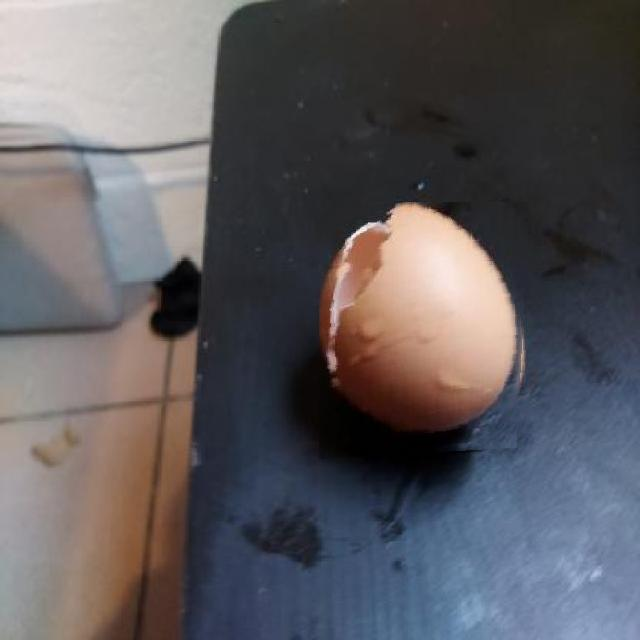biodegradable: (319, 202, 530, 460)
